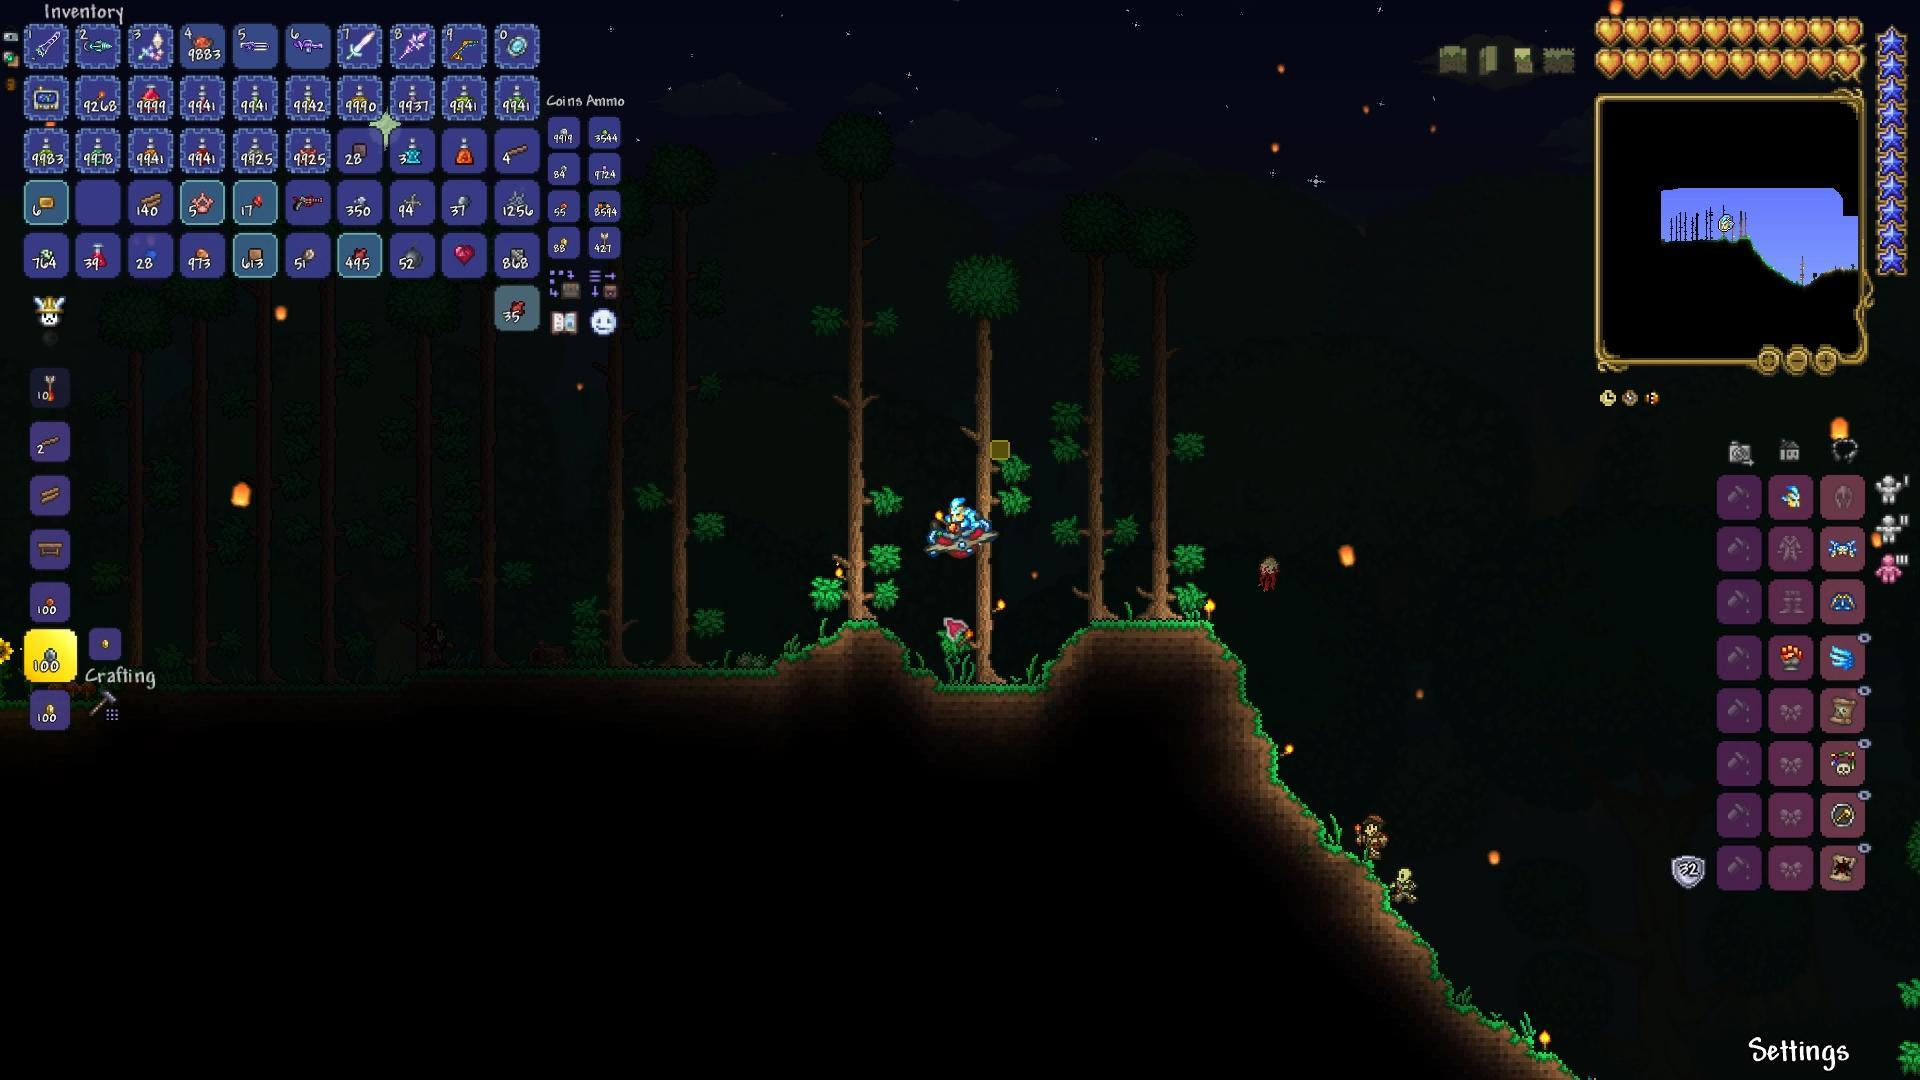eye: (1253, 546, 1287, 596)
mirror: (502, 33, 529, 62)
